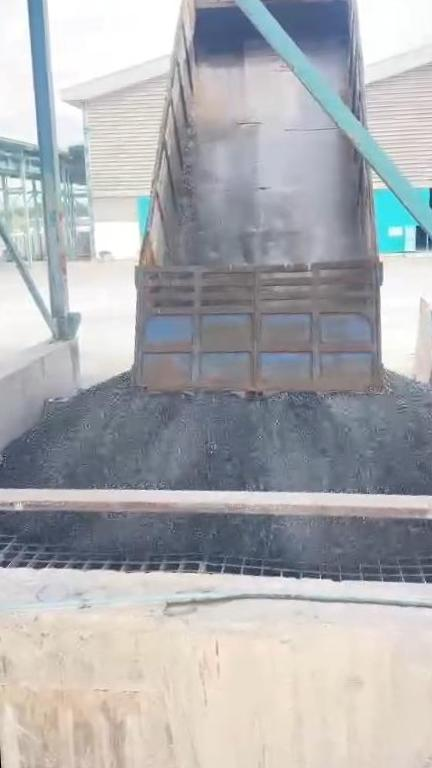gravel: (0, 374, 432, 495), (0, 512, 432, 564)
